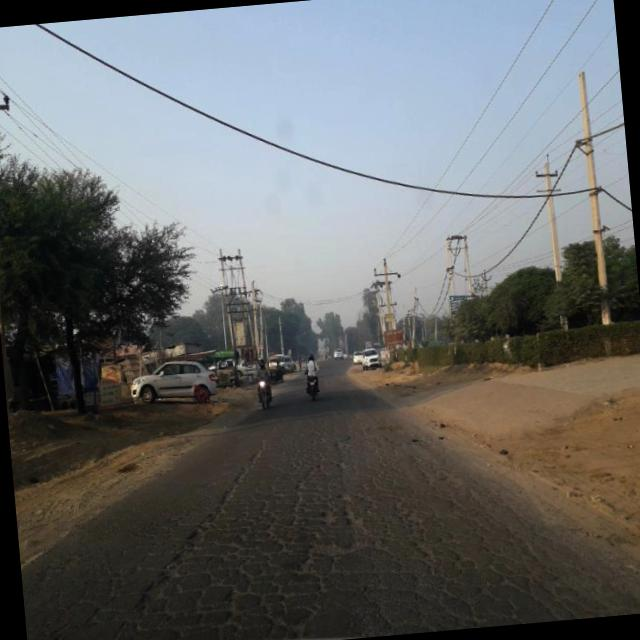crack: (46, 420, 620, 640), (95, 416, 287, 640)
